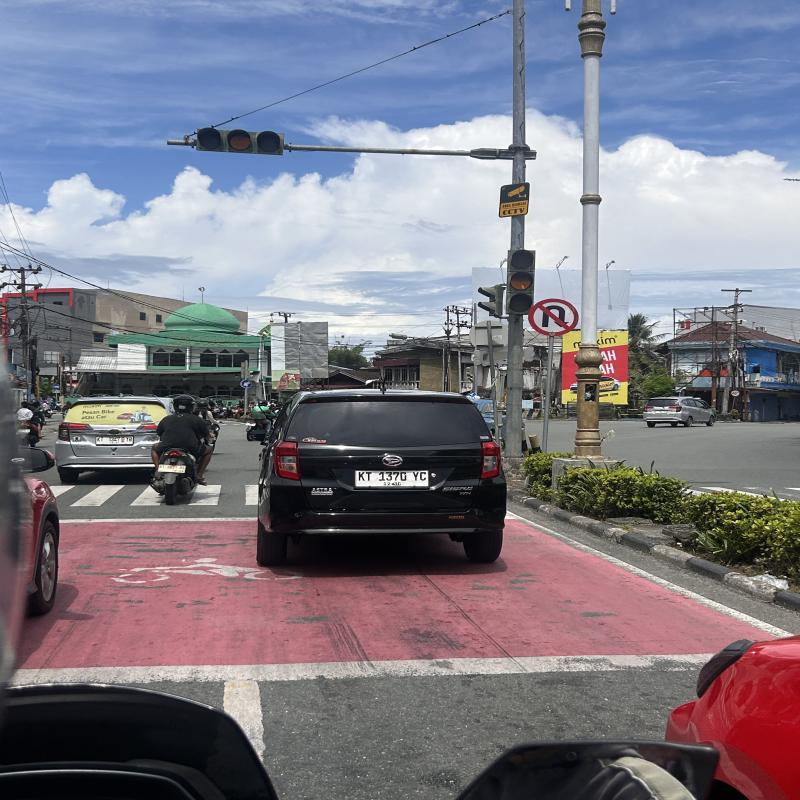license plate on a car: (355, 470, 427, 489), (96, 435, 133, 445)
